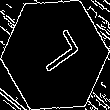L_SW: (29, 28, 81, 82)
